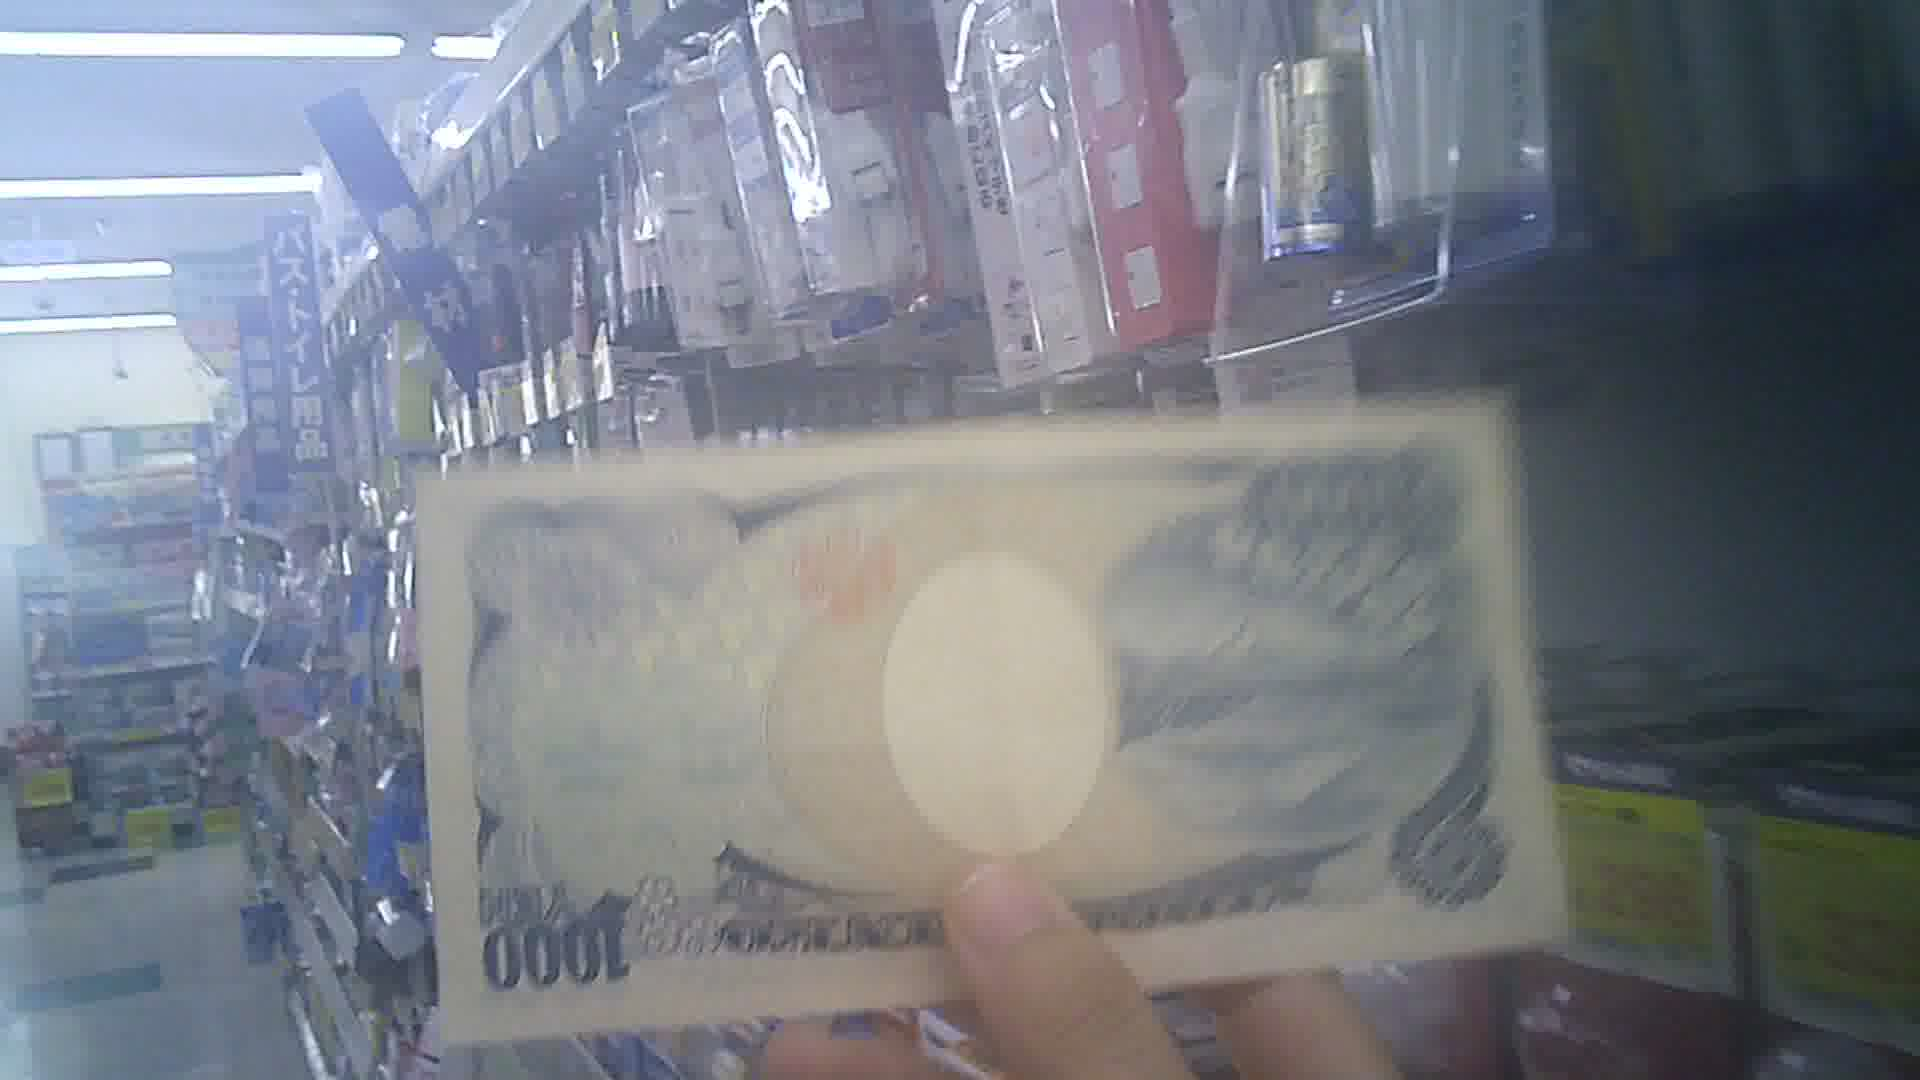1,000 Yen: (418, 419, 1582, 1010)
